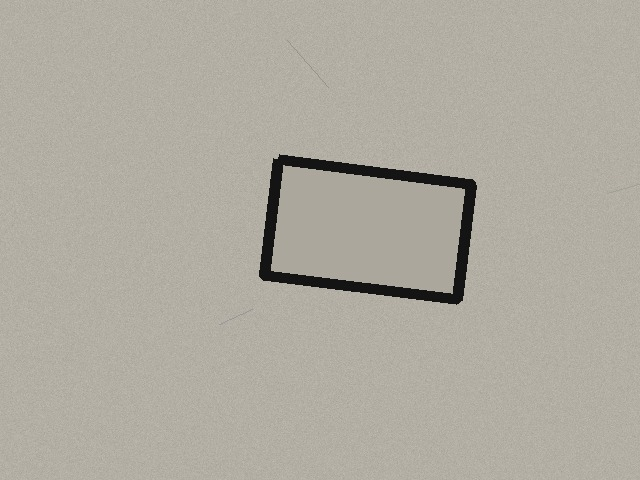parking_area: (264, 159, 471, 299)
